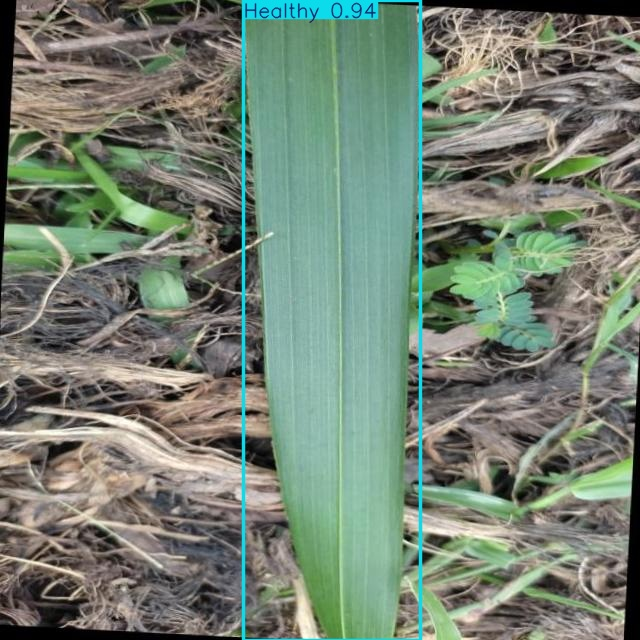Healthy: (243, 1, 420, 640)
